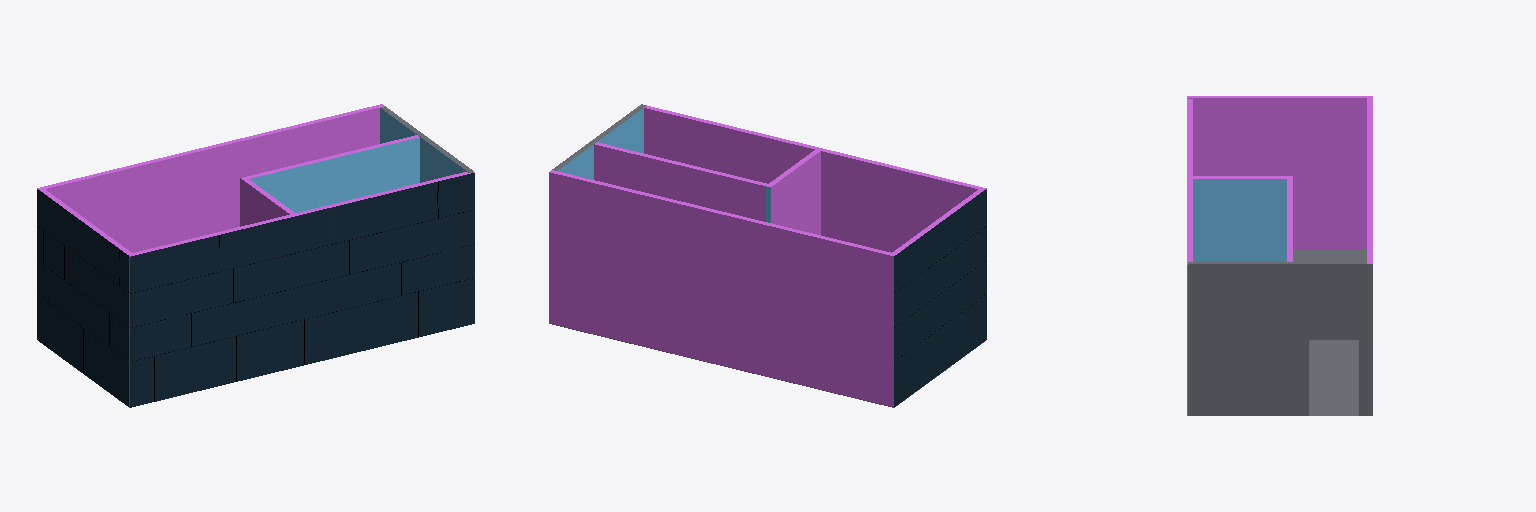
3 views of the same model, side by side, from view 1: azimuth 30°, elevation 25°; view 2: azimuth 150°, elevation 25°; view 3: azimuth 270°, elevation 25° (orthographic).
Parts seen in each view (by area): view 1: paredex, Box003, Box005, Box008, paredL, Box009; view 2: Box003, paredex, Box005, Box008, Box009, paredL; view 3: paredL, Box005, Box009, Box001, paredex, Box003.
Boxes of the visible parts, x1=… form: paredex: x1=129, y1=172, x2=474, y2=407; Box003: x1=37, y1=104, x2=383, y2=252; Box005: x1=37, y1=189, x2=133, y2=406; Box008: x1=247, y1=135, x2=419, y2=212; paredL: x1=380, y1=106, x2=473, y2=182; Box009: x1=240, y1=177, x2=294, y2=226; Box003: x1=549, y1=170, x2=896, y2=407; paredex: x1=644, y1=106, x2=980, y2=252; Box005: x1=892, y1=187, x2=986, y2=406; Box008: x1=594, y1=142, x2=767, y2=221; Box009: x1=766, y1=150, x2=820, y2=234; paredL: x1=552, y1=104, x2=646, y2=179; paredL: x1=1188, y1=262, x2=1372, y2=415; Box005: x1=1188, y1=96, x2=1366, y2=249; Box009: x1=1193, y1=176, x2=1292, y2=261; Box001: x1=1293, y1=250, x2=1366, y2=415; paredex: x1=1187, y1=96, x2=1192, y2=415; Box003: x1=1367, y1=96, x2=1372, y2=263.
Size of the model in its own units: 199 by 83.66 by 93.15.
5 materials, 4 textured.